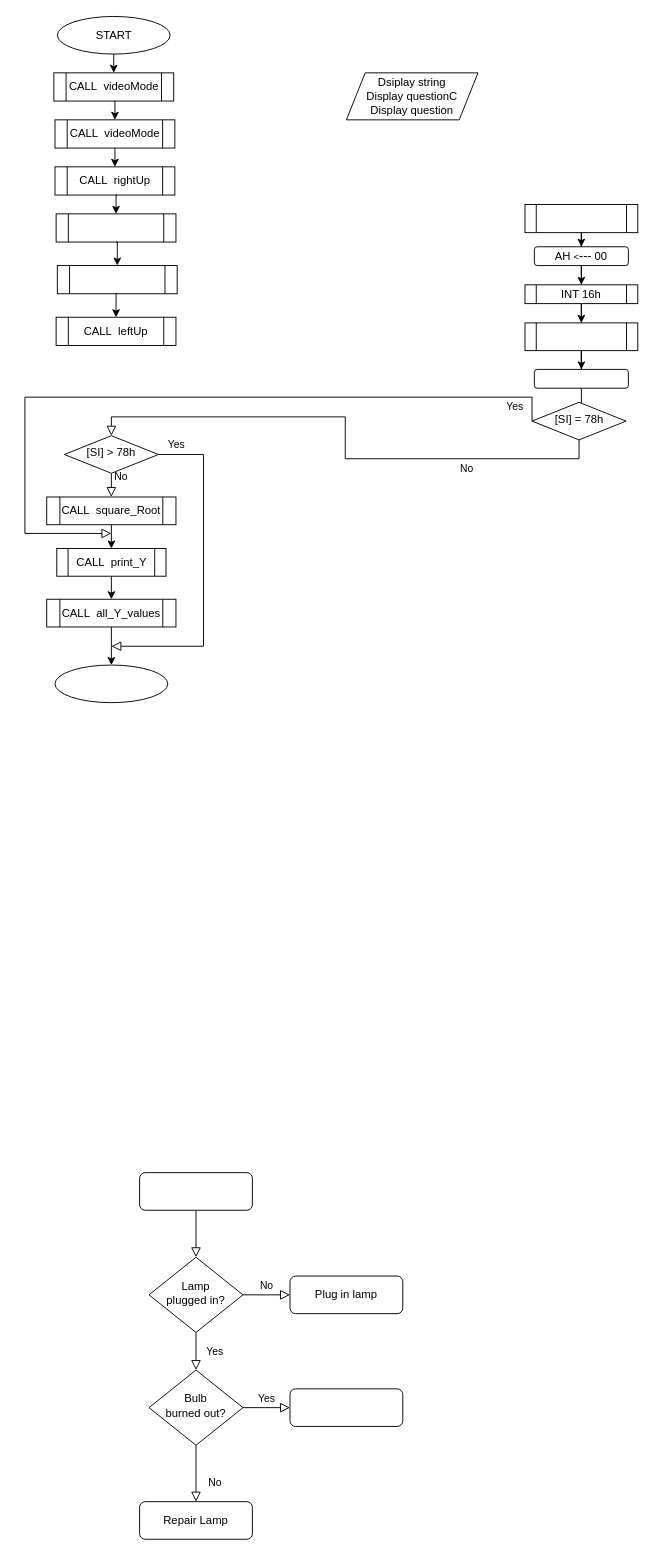
This 654x1556 diagram has some shape labels left out. Each missing label, with the centre of its shape:
"CALL combine" goes at pixel 581 336.
"CALL ifBig" goes at pixel 581 218.
"CALL leftDown" goes at pixel 116 279.
"CALL rightDown" goes at pixel 115 227.
"CL < --- 00" goes at pixel 580 378.
"END" goes at pixel 111 683.
"Lamp doesn't work" goes at pixel 195 1191.
"Replace Bulb" goes at pixel 346 1407.
